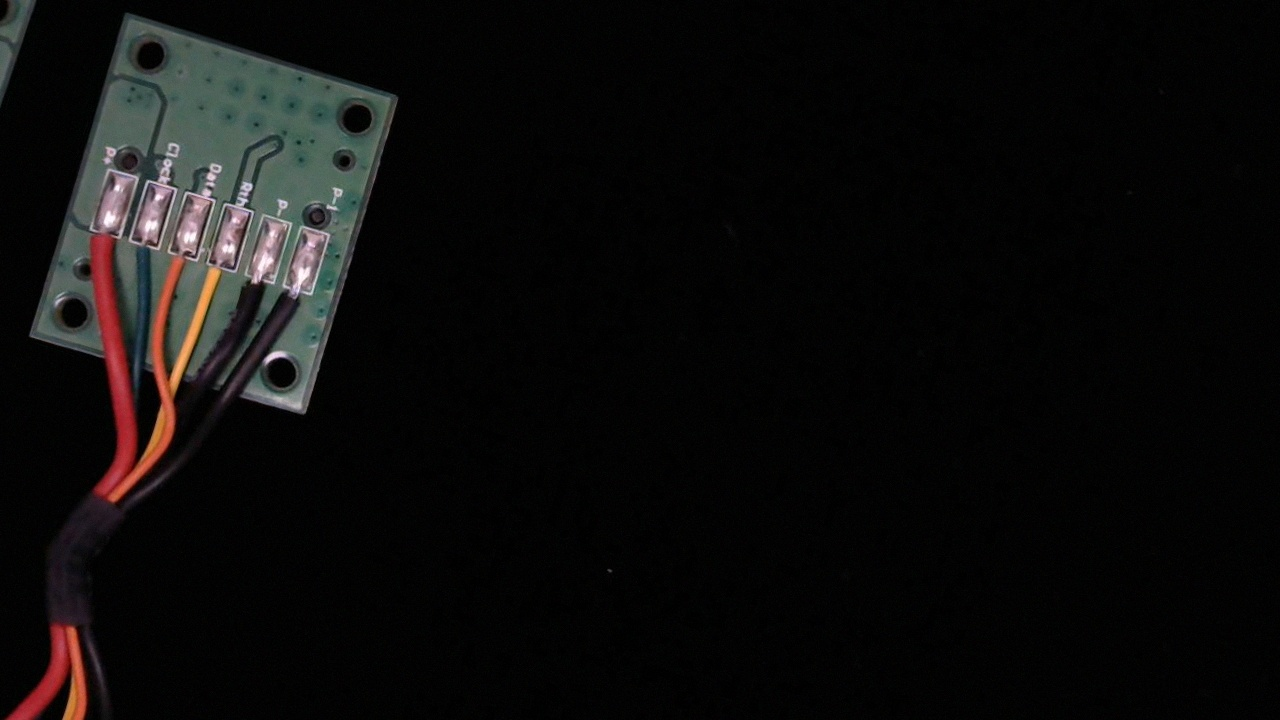Black: (226, 261, 276, 336)
Black1: (265, 274, 317, 347)
Green: (111, 225, 165, 302)
Orange: (150, 238, 204, 316)
Red: (71, 216, 125, 293)
Yellow: (184, 250, 240, 331)
